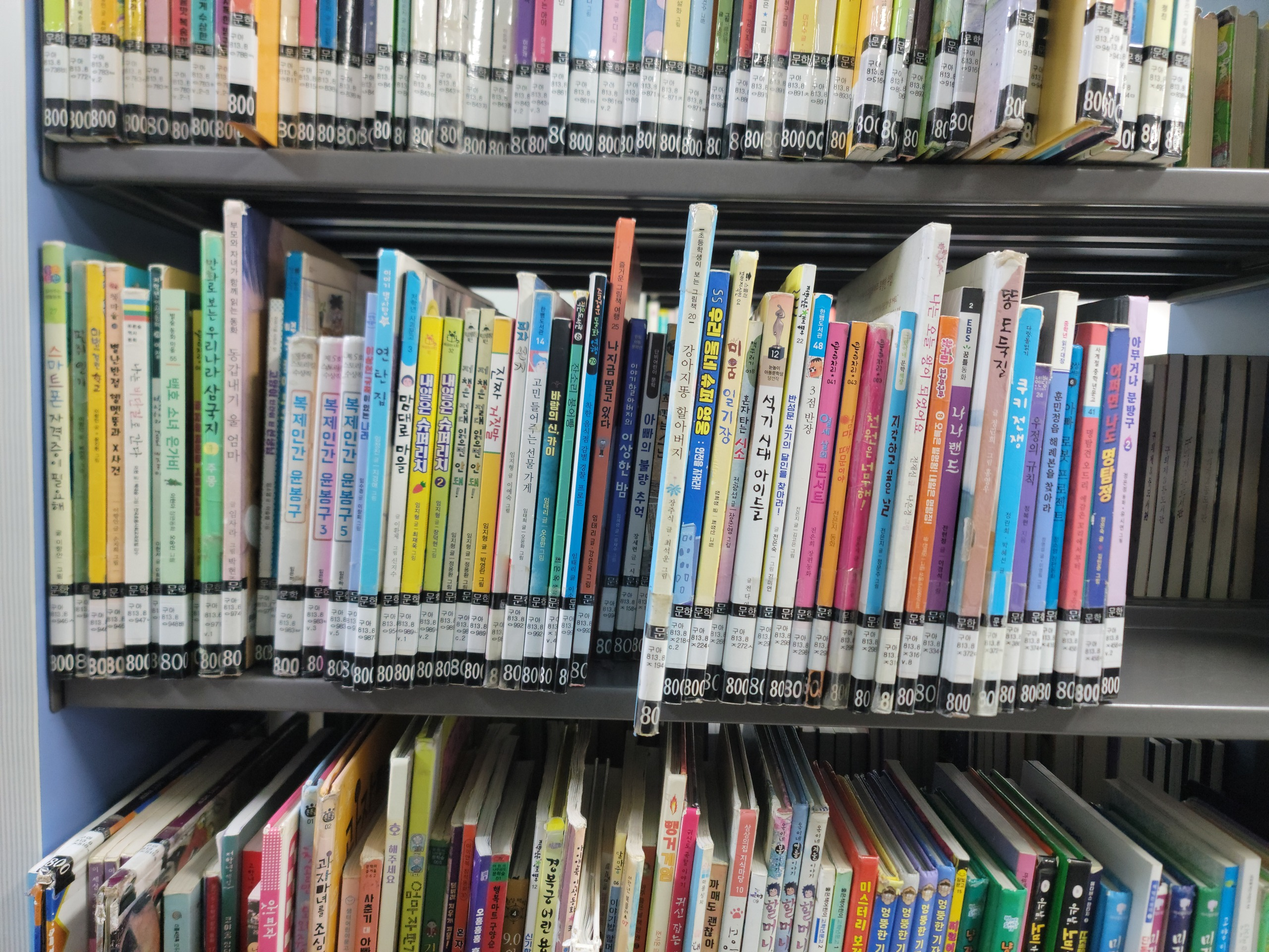book-spine: (638, 204, 715, 711), (872, 225, 951, 716), (947, 254, 1025, 718), (682, 251, 757, 706), (568, 218, 636, 695), (720, 289, 795, 708), (661, 269, 732, 708), (745, 271, 816, 709), (913, 287, 985, 715), (764, 295, 832, 706), (850, 309, 918, 711), (974, 305, 1040, 717), (894, 317, 961, 711), (825, 321, 893, 708), (802, 320, 869, 711), (1016, 291, 1076, 716), (783, 324, 848, 706), (701, 320, 764, 704), (553, 273, 609, 693), (481, 272, 536, 689), (1051, 328, 1109, 718), (1096, 296, 1149, 720), (498, 289, 554, 690), (589, 317, 648, 696), (1073, 326, 1129, 719), (372, 271, 424, 691), (536, 289, 589, 695), (608, 333, 667, 697), (254, 252, 303, 680), (519, 314, 572, 692), (995, 363, 1052, 714), (392, 312, 444, 688), (625, 322, 677, 697), (354, 256, 399, 686), (1033, 340, 1084, 717), (411, 317, 463, 685), (430, 307, 480, 685), (465, 310, 514, 690), (448, 311, 495, 689), (298, 337, 344, 681), (37, 243, 73, 679), (271, 340, 317, 681), (340, 287, 379, 685), (321, 335, 363, 684), (249, 289, 282, 680), (221, 211, 246, 679), (122, 287, 150, 680), (198, 232, 222, 677), (160, 287, 187, 680), (68, 263, 89, 680), (86, 263, 107, 678), (104, 262, 124, 678), (149, 262, 163, 675), (190, 314, 203, 677)
